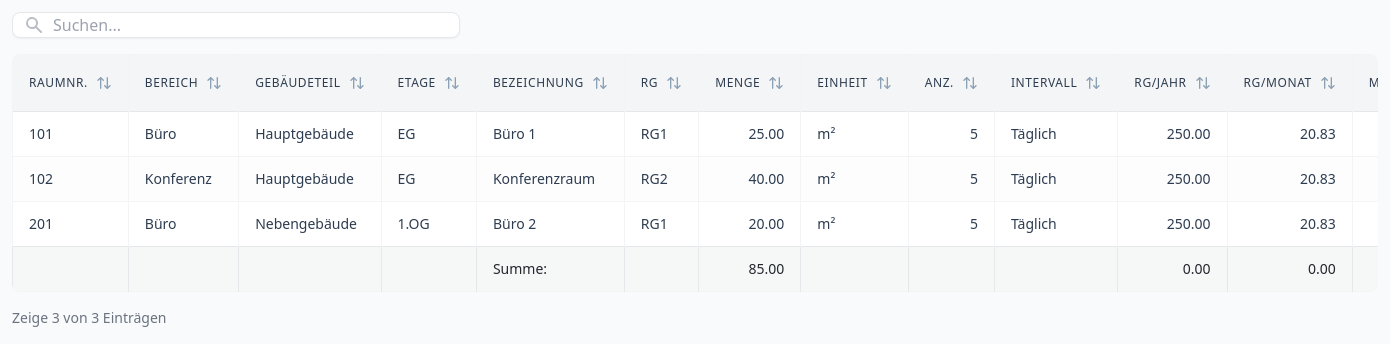
Test: RaumbuchTable Component › Sortiert numerische Werte korrekt
The image size is (1390, 344).
// Klicke auf die Spaltenüberschrift "Menge"
Step 1. Click the text "Menge" → (738, 83), box [715, 75, 760, 91]
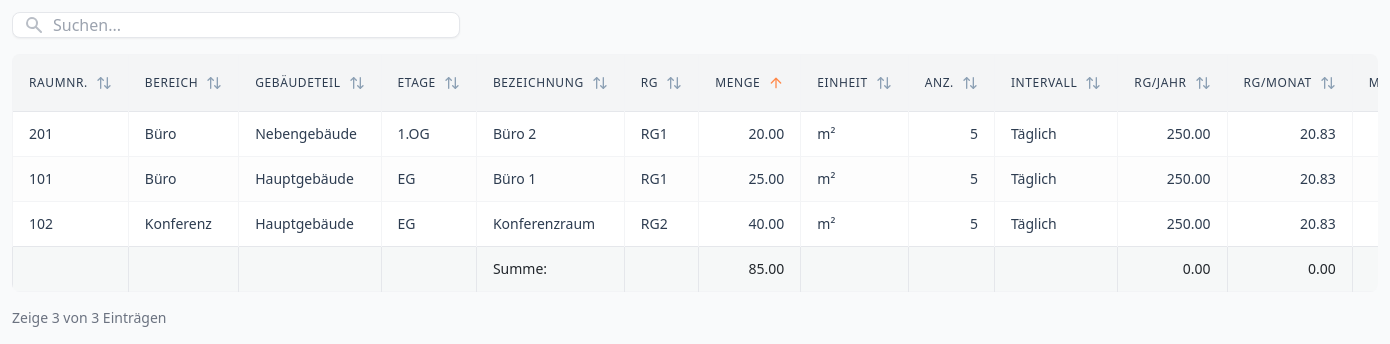
Check: the cell "20.00" is shown, box [699, 112, 801, 156]
Check: the cell "40.00" is shown, box [699, 202, 801, 246]
// Klicke erneut auf die Spaltenüberschrift für absteigende Sortierung
Step 2. Click the text "Menge" → (738, 83), box [715, 75, 760, 91]
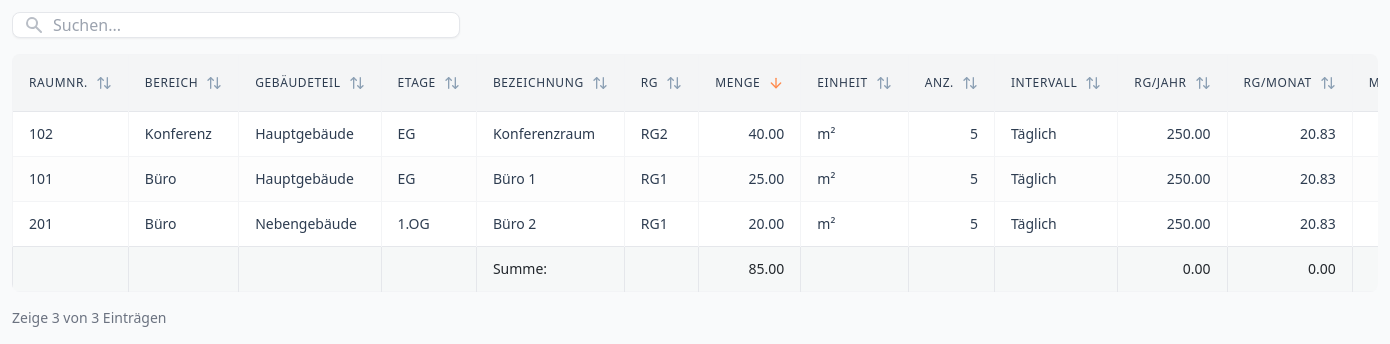
Check: the cell "40.00" is shown, box [699, 112, 801, 156]
Check: the cell "20.00" is shown, box [699, 202, 801, 246]
